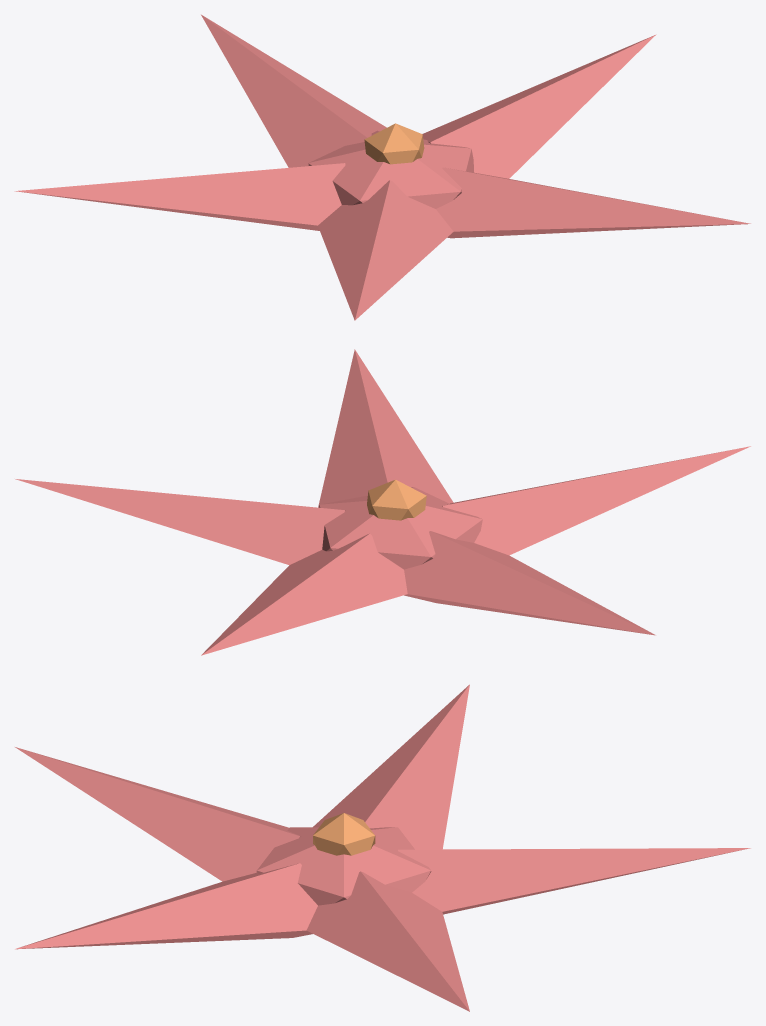
The model's file is starfish.glb.
3 renders of one model, top to bottom at view 1: azimuth 30°, elevation 25°; view 2: azimuth 150°, elevation 25°; view 3: azimuth 270°, elevation 25°, orthographic. The views are drawn at different scales.
Visible parts, largest first — view 1: ocean-starfish; view 2: ocean-starfish; view 3: ocean-starfish.
Boxes of the visible parts, x1,y1,x2,y2 form: ocean-starfish: (14,14,750,320); ocean-starfish: (15,349,750,655); ocean-starfish: (15,684,750,1011).
Bounding box in the file's own units: 0.5293 × 0.085 × 0.5034.
